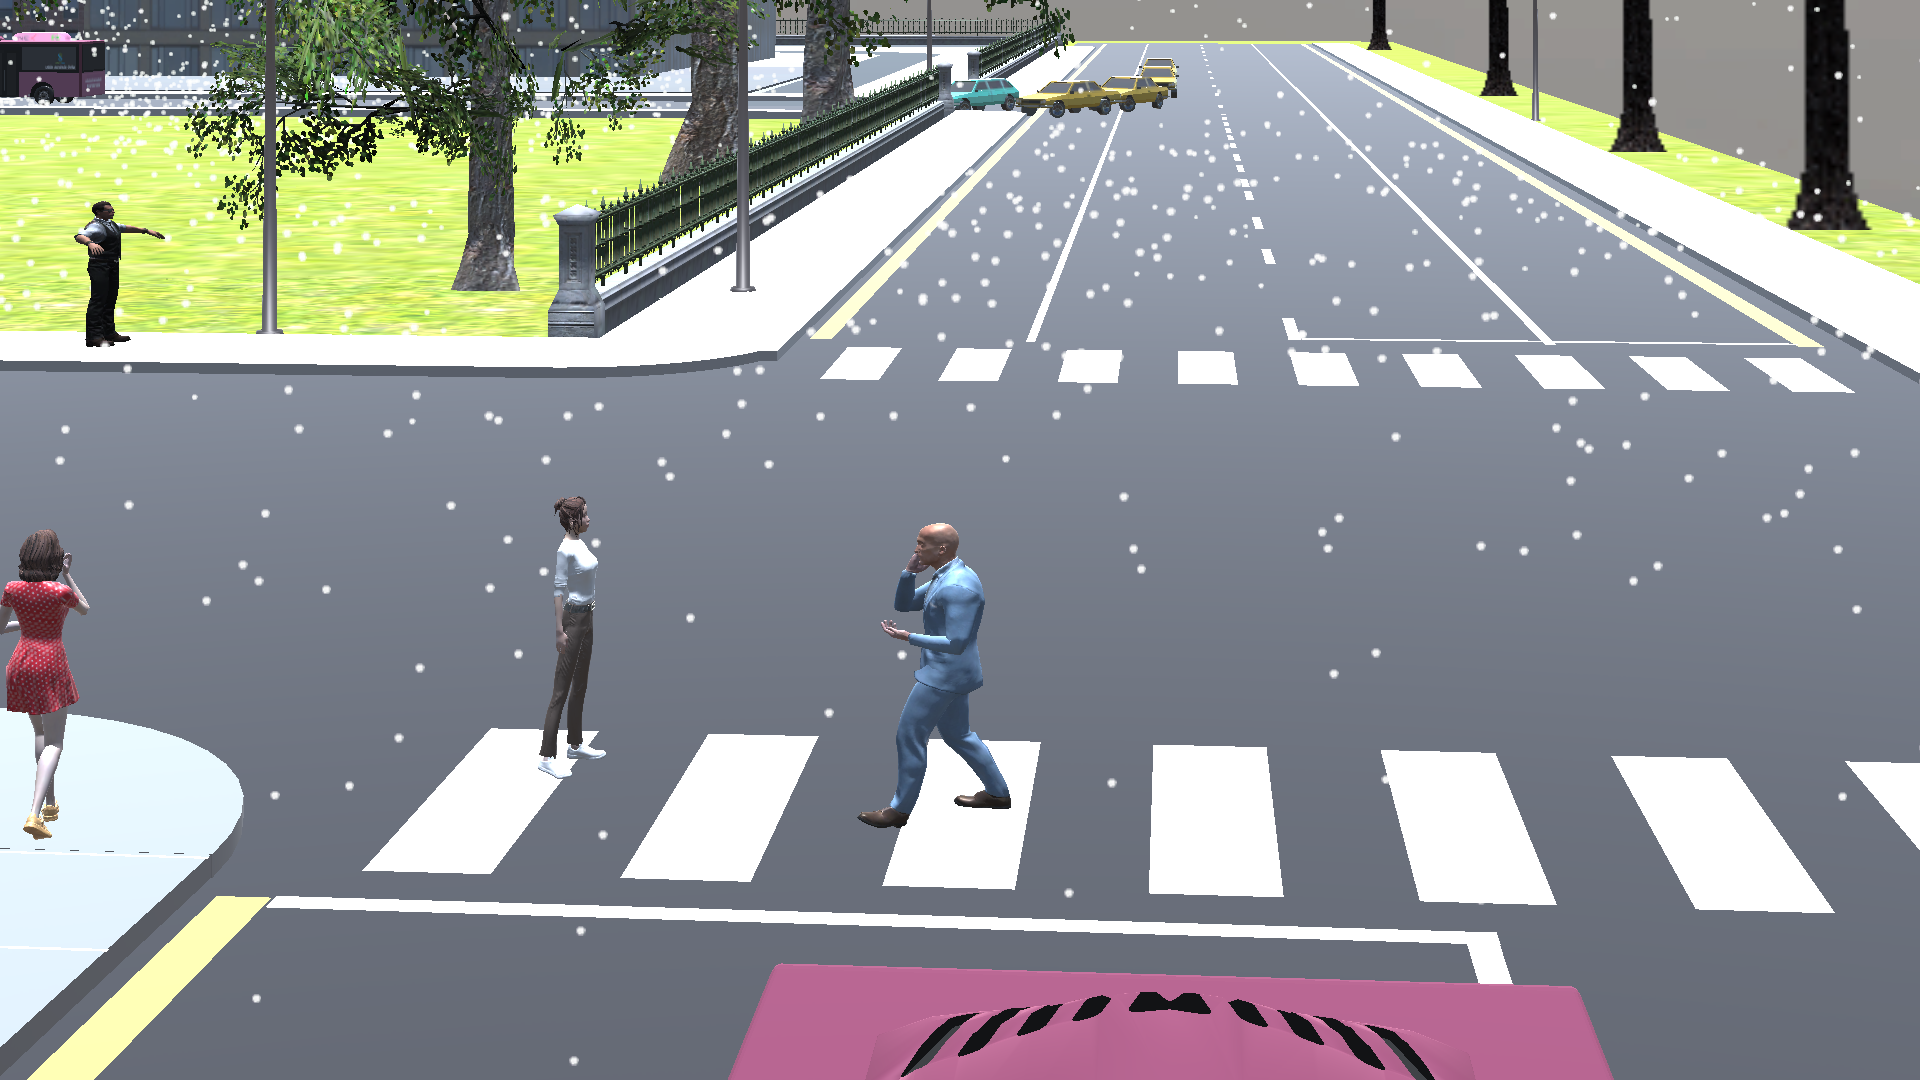pedestrian: (854, 505, 1020, 836), (3, 526, 119, 850), (535, 492, 615, 793), (64, 201, 172, 358)
